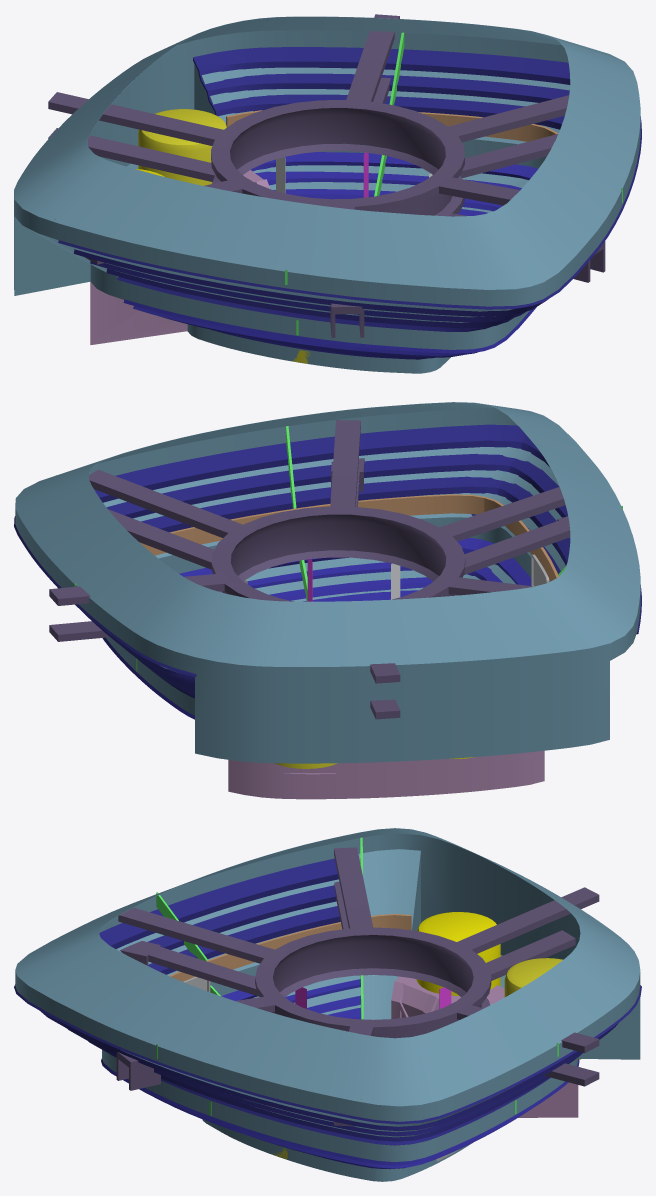
The model's file is 棒球場.fbx.
3 renders of one model, top to bottom at view 1: azimuth 30°, elevation 25°; view 2: azimuth 150°, elevation 25°; view 3: azimuth 270°, elevation 25°, orthographic. The views are drawn at different scales.
Parts seen in each view (by area): view 1: 場地; view 2: 場地; view 3: 場地.
Part boxes in pixels (x1,y1,x2,y2): 場地: (14,14,641,373); 場地: (14,402,641,799); 場地: (14,828,641,1181).
Bounding box in the file's own units: 78808 × 24834 × 76504.
